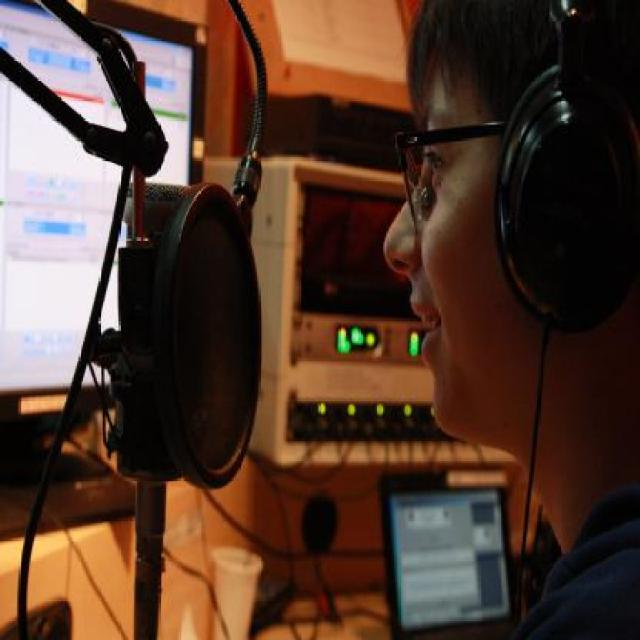earphone: (496, 0, 636, 370)
laptop_computer: (360, 455, 512, 640)
